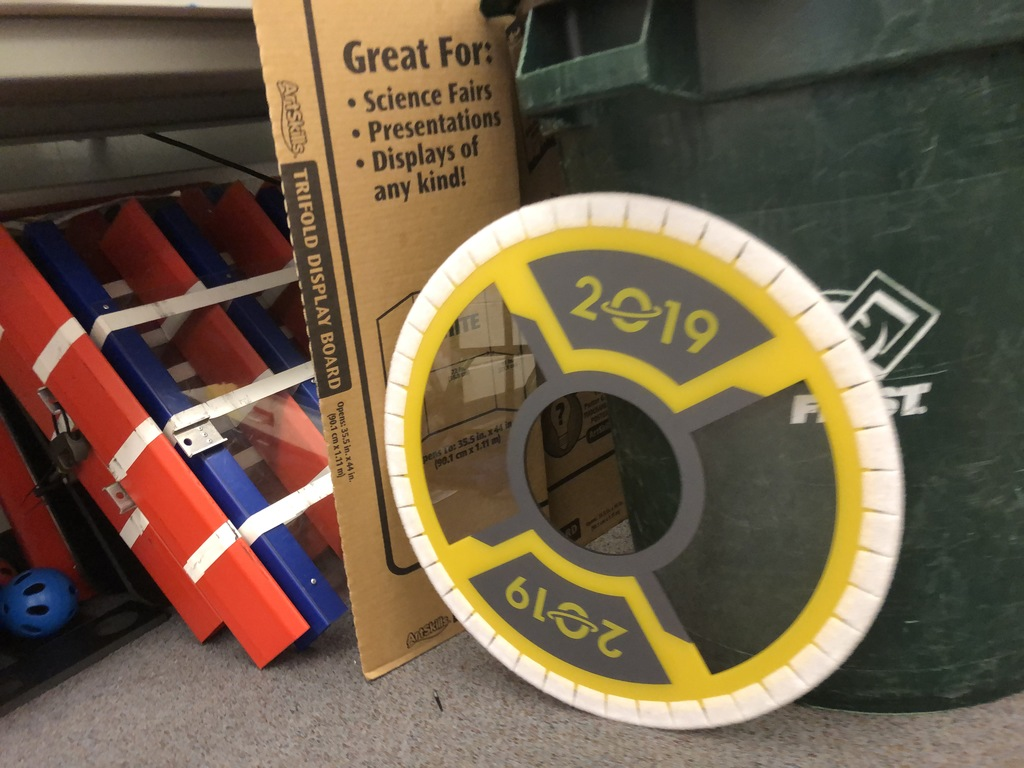hatch_panel: (377, 177, 907, 744)
